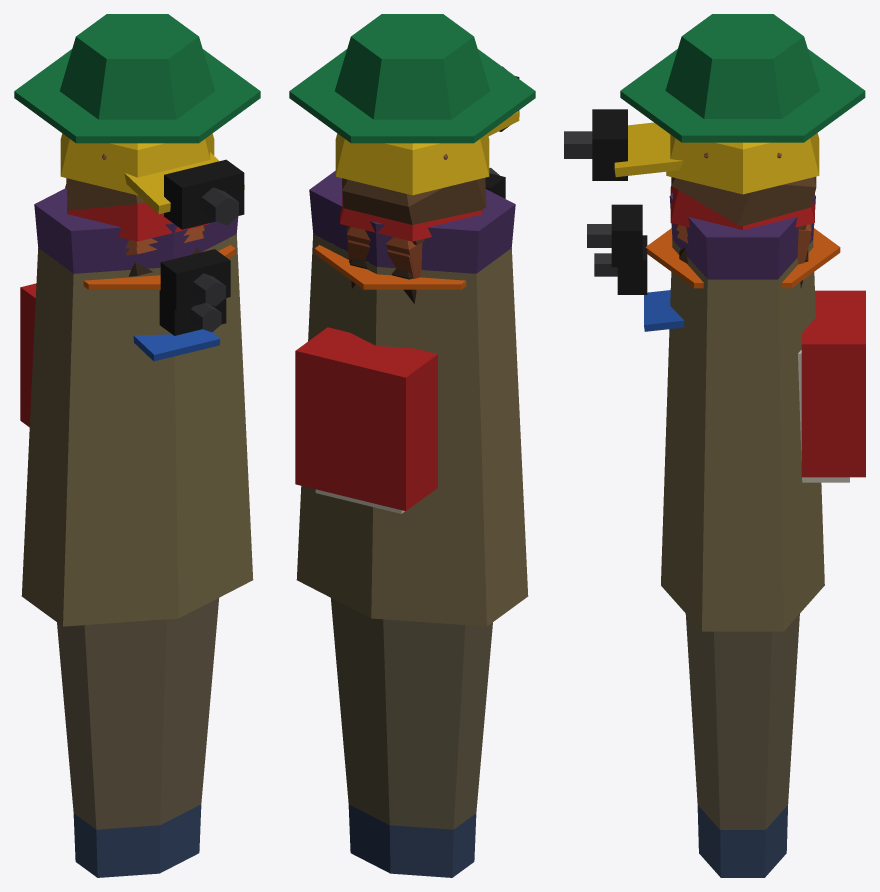
Rendered from spectators.glb.
3 views of the same model, side by side, from view 1: azimuth 30°, elevation 25°; view 2: azimuth 150°, elevation 25°; view 3: azimuth 270°, elevation 25° (orthographic).
Visible parts, largest first — view 1: Spectator7, Spectator4, Spectator2, Spectator0, Spectator5, Spectator1, Spectator8, Spectator6; view 2: Spectator7, Spectator4, Spectator0, Spectator2, Spectator6, Spectator5, Spectator9; view 3: Spectator7, Spectator4, Spectator0, Spectator2, Spectator5, Spectator6, Spectator1, Spectator8.
Boxes of the visible parts, x1,y1,x2,y2 form: Spectator7: (21, 178, 253, 829); Spectator4: (14, 14, 260, 877); Spectator2: (60, 133, 244, 214); Spectator0: (20, 184, 209, 427); Spectator5: (125, 225, 230, 309); Spectator1: (128, 247, 226, 335); Spectator8: (133, 329, 220, 361); Spectator6: (83, 245, 235, 289); Spectator7: (296, 178, 528, 829); Spectator4: (289, 14, 535, 877); Spectator0: (295, 193, 482, 511); Spectator2: (335, 111, 519, 195); Spectator6: (314, 245, 466, 289); Spectator5: (315, 167, 505, 513); Spectator9: (347, 240, 417, 292); Spectator7: (661, 176, 824, 829); Spectator4: (564, 14, 865, 877); Spectator0: (670, 186, 865, 477); Spectator2: (614, 122, 819, 194); Spectator5: (587, 204, 849, 482); Spectator6: (645, 228, 840, 288); Spectator1: (594, 235, 808, 294); Spectator8: (644, 290, 684, 331).
Bounding box in the file's own units: 0.4769 × 1.97 × 0.6584.
